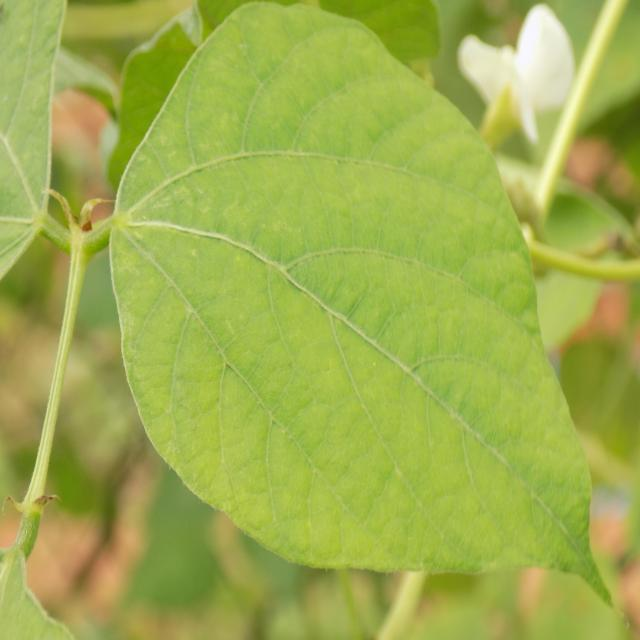Dolicos bean_healthy: (107, 0, 619, 608)
